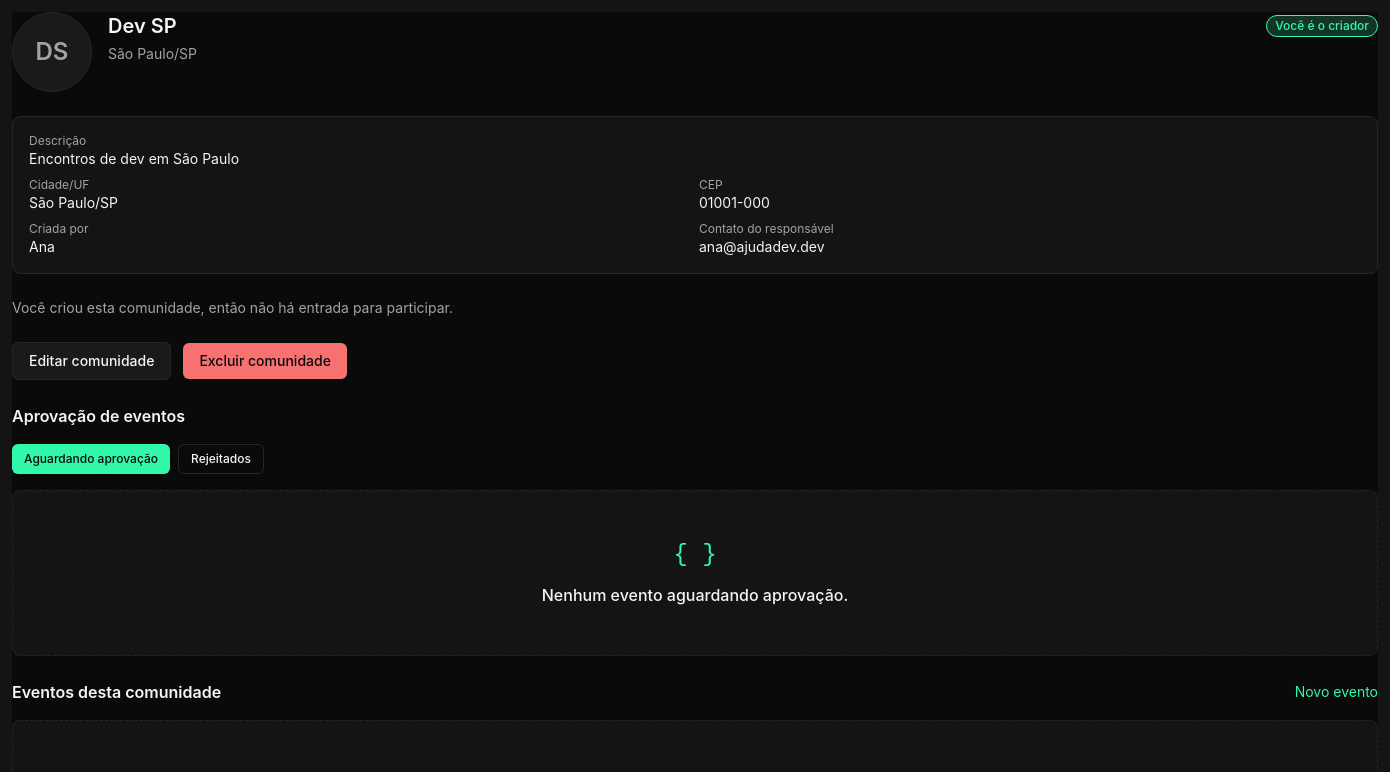
Scenario: CommunityDetailPage › trocar para a aba Rejeitados busca REJECTED
What coordinates should you click on to do the following:
click the button "Rejeitados"
I would click on:
 (221, 459)
Its box is [178,444,264,474].
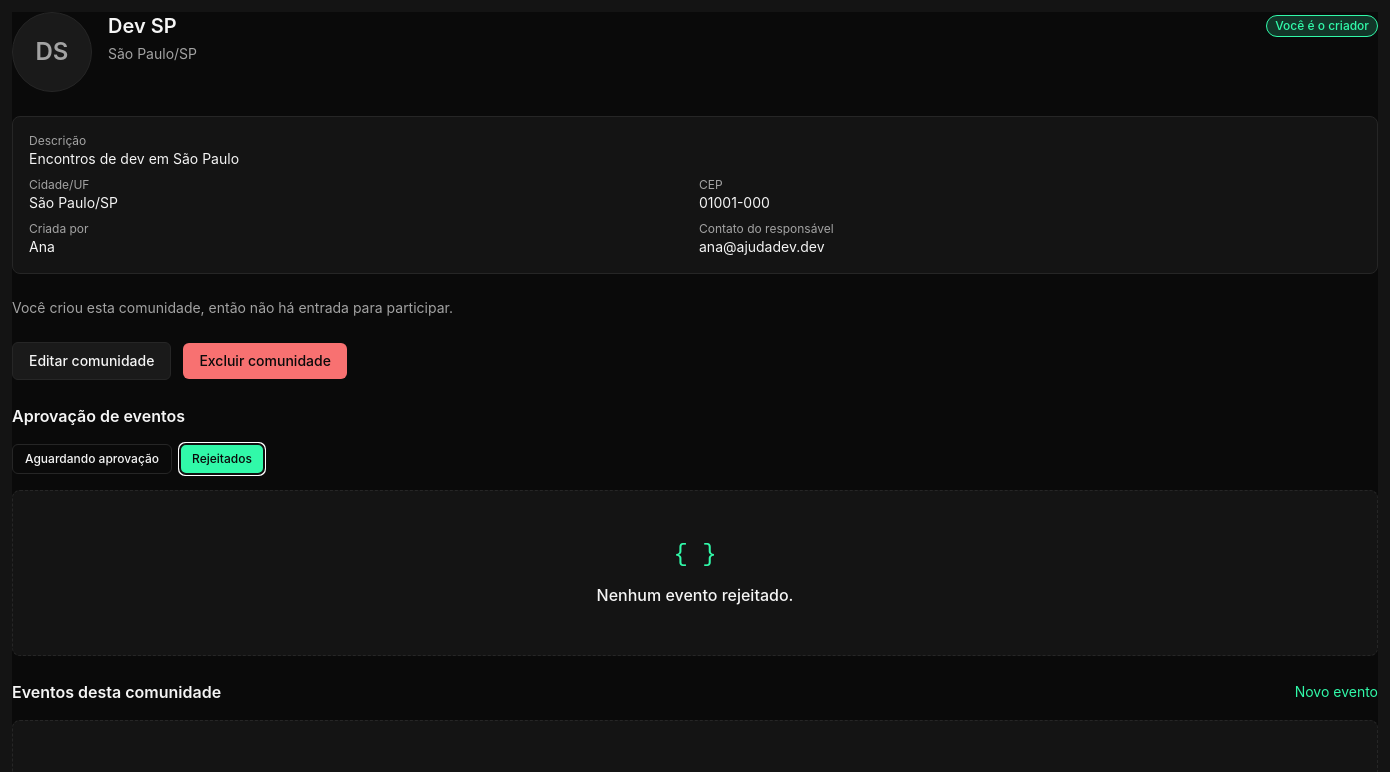
Check: the text "Nenhum evento rejeitado." is shown, box [597,583,793,607]
